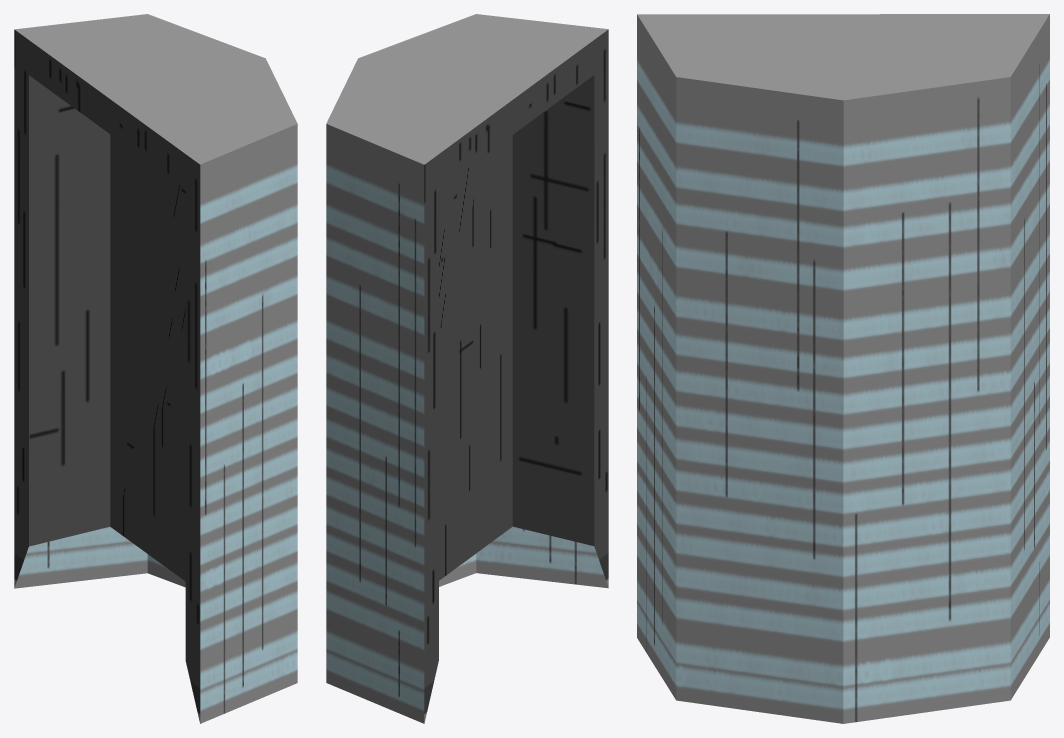
File: BilR.fbx
The picture shows the model from 3 angles, left to right: view 1: azimuth 30°, elevation 25°; view 2: azimuth 150°, elevation 25°; view 3: azimuth 270°, elevation 25°; orthographic projection. The views are drawn at different scales.
Parts seen in each view (by area): view 1: Cube; view 2: Cube; view 3: Cube.
Part boxes in pixels (x1,y1,x2,y2): Cube: (14,14,297,723); Cube: (326,14,608,723); Cube: (637,14,1049,723).
Bounding box in the file's own units: 18.39 × 61.87 × 37.12.
1 material, 1 textured.
